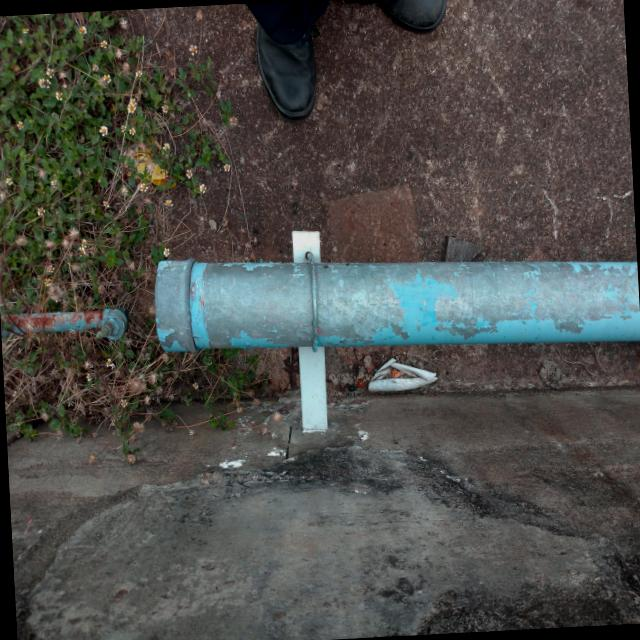gas: (155, 232, 640, 362)
